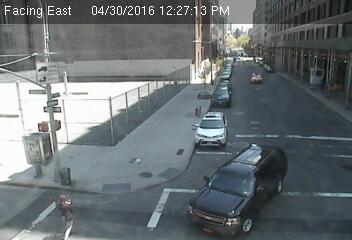neg: (246, 137, 282, 186), (296, 55, 331, 102), (103, 90, 133, 131), (61, 99, 89, 136), (306, 154, 334, 191), (21, 129, 48, 165), (135, 164, 162, 199), (188, 91, 214, 127), (174, 31, 196, 60), (241, 69, 262, 97), (176, 148, 195, 173), (139, 74, 158, 98), (64, 164, 80, 186)
pos: (44, 190, 79, 236)
